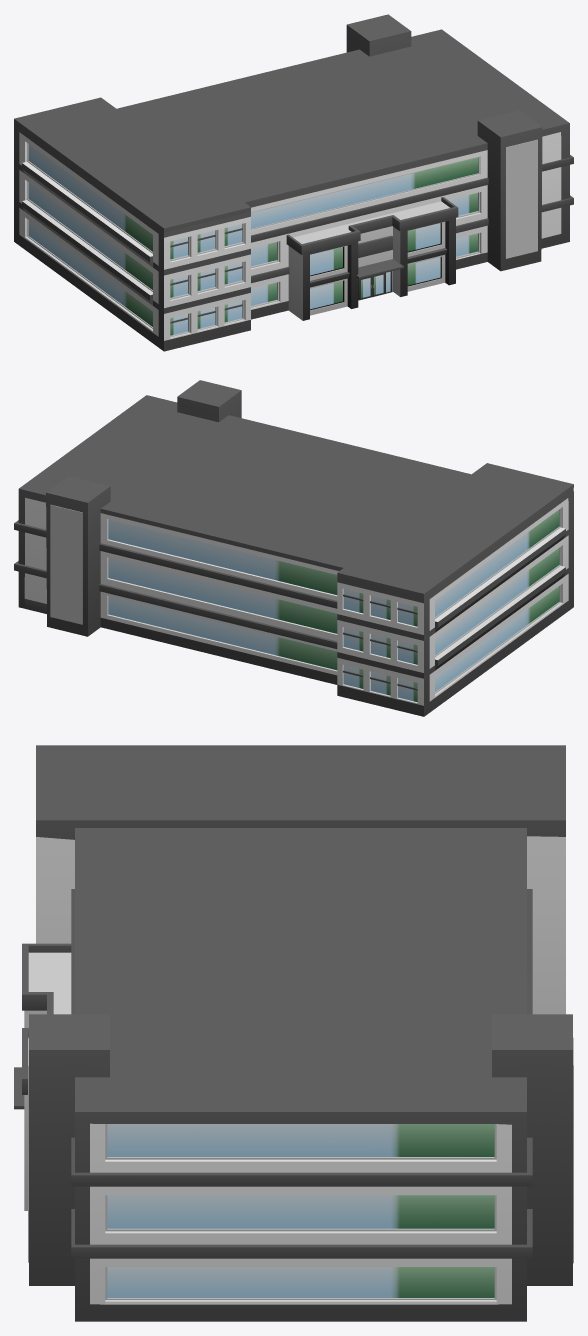
File: SMA.fbx
The picture shows the model from 3 angles, top to bottom: view 1: azimuth 30°, elevation 25°; view 2: azimuth 150°, elevation 25°; view 3: azimuth 270°, elevation 25°; orthographic projection. The views are drawn at different scales.
Visible parts, largest first — view 1: SMABangunan_LOD0; view 2: SMABangunan_LOD0; view 3: SMABangunan_LOD0.
Boxes of the visible parts, bbox=[...] form: SMABangunan_LOD0: bbox=[14, 14, 573, 351]; SMABangunan_LOD0: bbox=[14, 380, 573, 716]; SMABangunan_LOD0: bbox=[14, 745, 573, 1321].
Size of what is drawn, in the model's own units: 6686 by 2025 by 4343.
